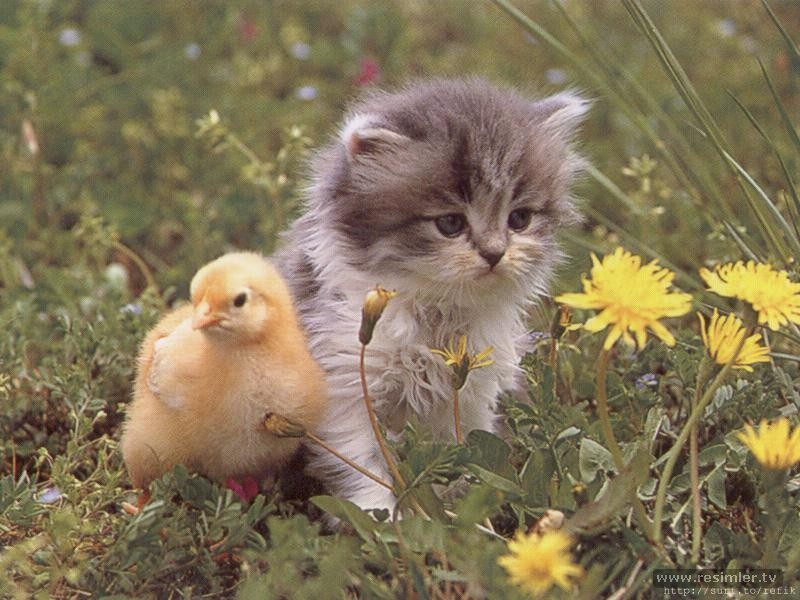cat: (317, 73, 597, 302)
